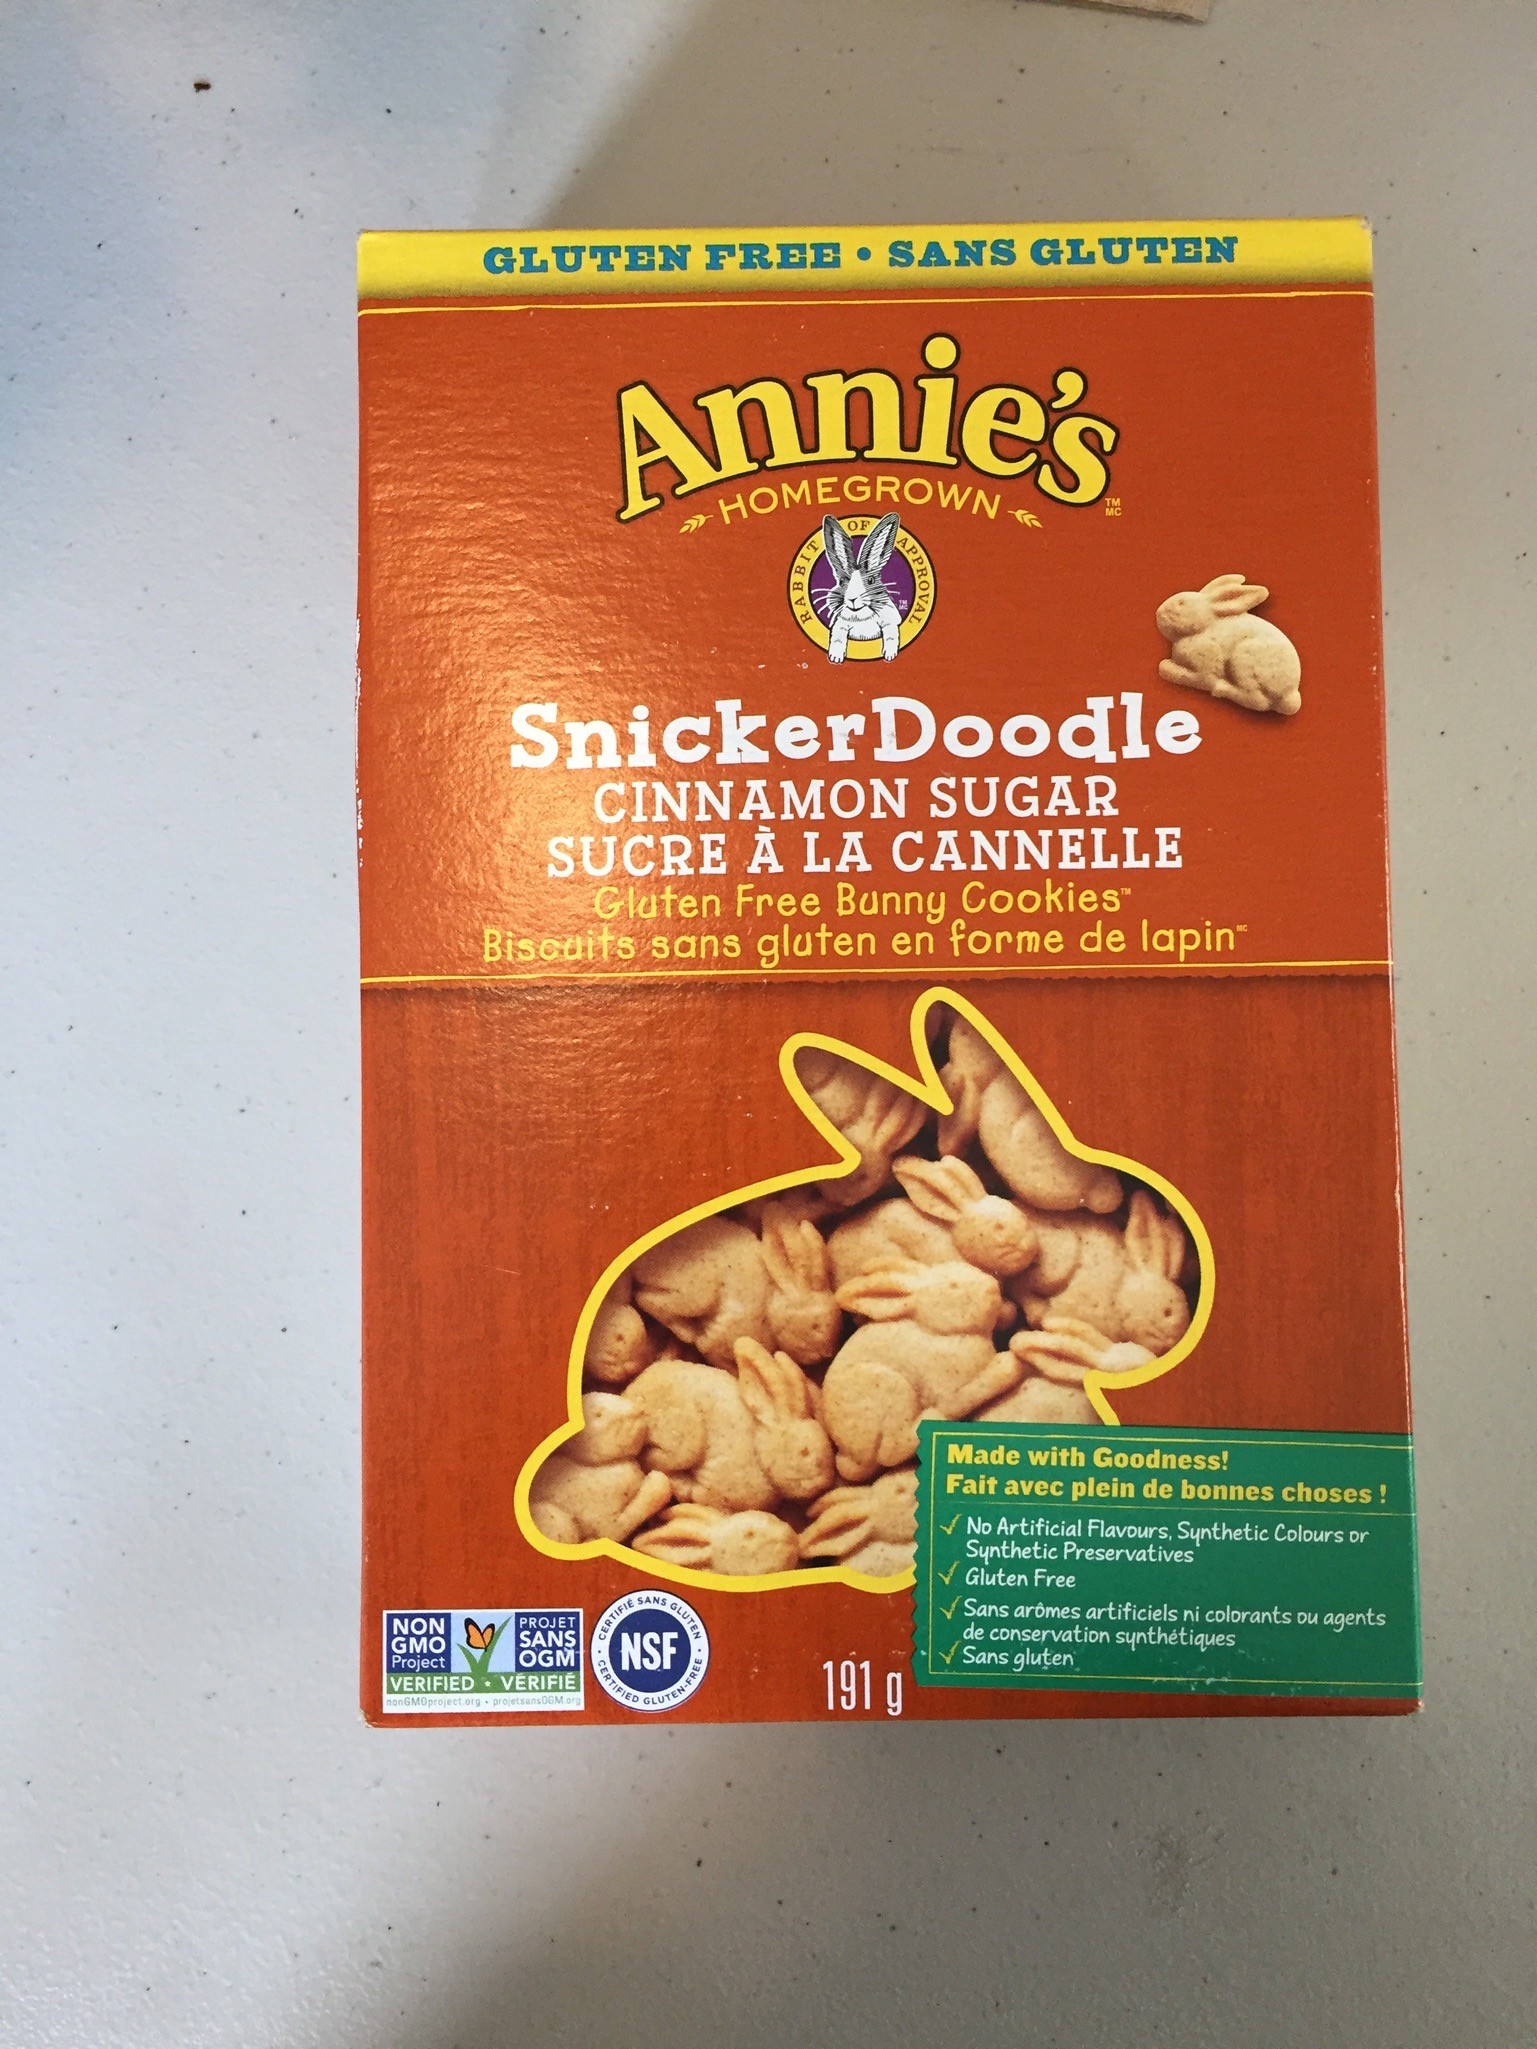annies_snickerdoodles_cinnamon_sugar: (378, 242, 1395, 1695)
